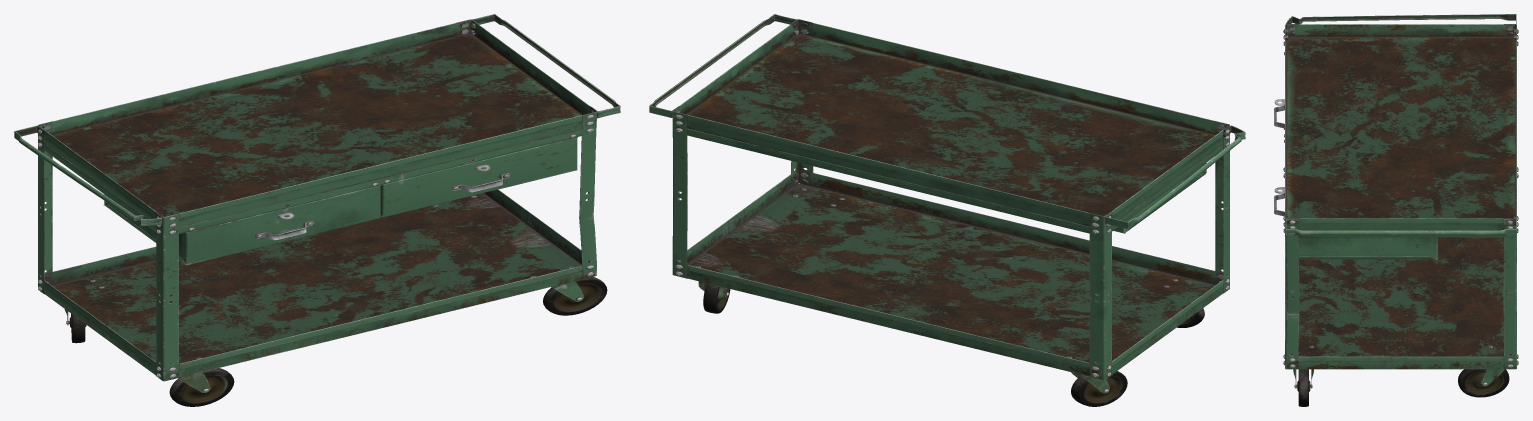
Rendered from build_station.glb.
3 renders of one model, left to right at view 1: azimuth 30°, elevation 25°; view 2: azimuth 150°, elevation 25°; view 3: azimuth 270°, elevation 25°, orthographic. The views are drawn at different scales.
Visible parts, largest first — view 1: tool_cart; view 2: tool_cart; view 3: tool_cart.
Boxes of the visible parts, x1=… form: tool_cart: x1=14, y1=14, x2=620, y2=406; tool_cart: x1=649, y1=14, x2=1245, y2=406; tool_cart: x1=1274, y1=14, x2=1518, y2=406.
Size of the model in its own units: 1.9 by 0.77 by 0.9.
1 material, 1 textured.
